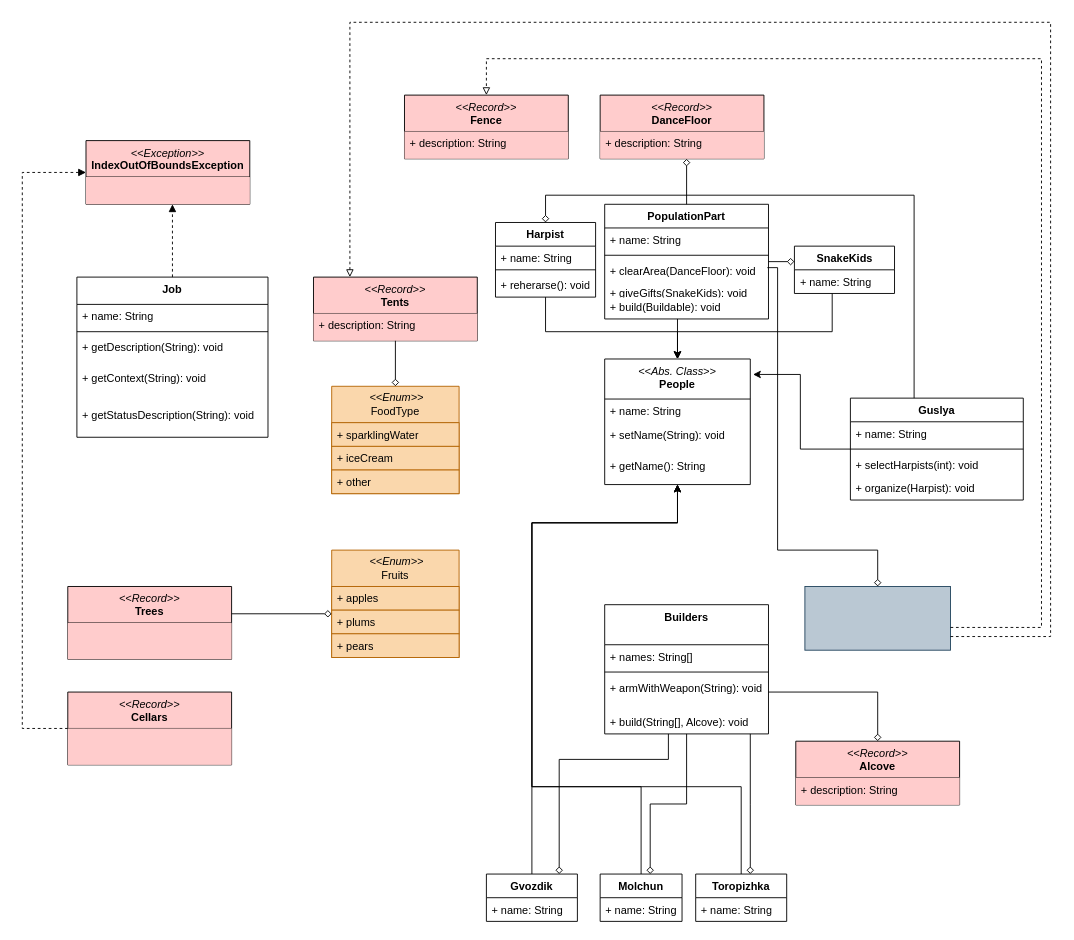
Some shapes in this 1074 by 940 pixel diagram are drawn without their labels. The centre of each missing label's shape, as x and y in pixels:
+ description: String + fruitsOnTrees: Fruits: (x=149, y=640)
+ description: String + getStatus(int): void: (x=149, y=746)
+ getMessage(): String: (x=167, y=190)
<<Interface>> Buildable + build(): String: (x=877, y=618)
